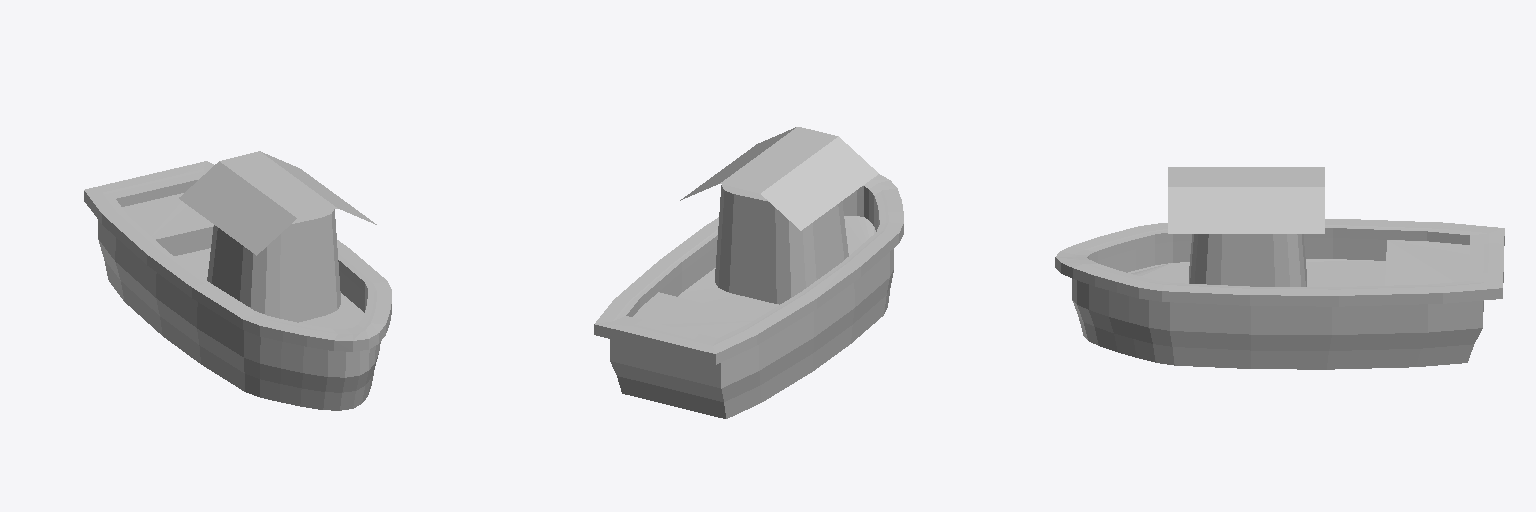
The model's file is new_boat.obj.
The picture shows the model from 3 angles: view 1: azimuth 30°, elevation 25°; view 2: azimuth 150°, elevation 25°; view 3: azimuth 270°, elevation 25°; orthographic projection.
Visible parts, largest first — view 1: hull; view 2: hull; view 3: hull.
Boxes of the visible parts, <box> form: hull: <box>84,151,391,410</box>; hull: <box>594,127,903,418</box>; hull: <box>1055,167,1504,369</box>.
Bounding box in the file's own units: 1.79 × 1.78 × 4.4.